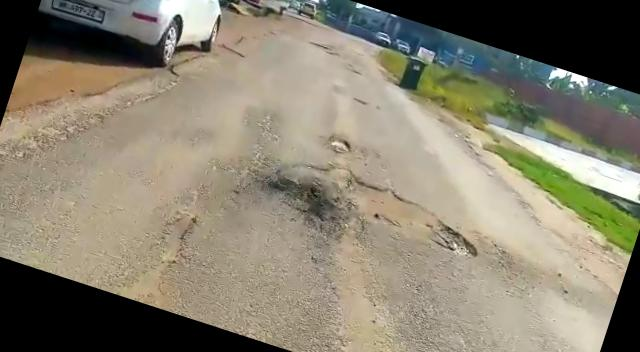pothole: (308, 164, 494, 263), (324, 136, 358, 159)
